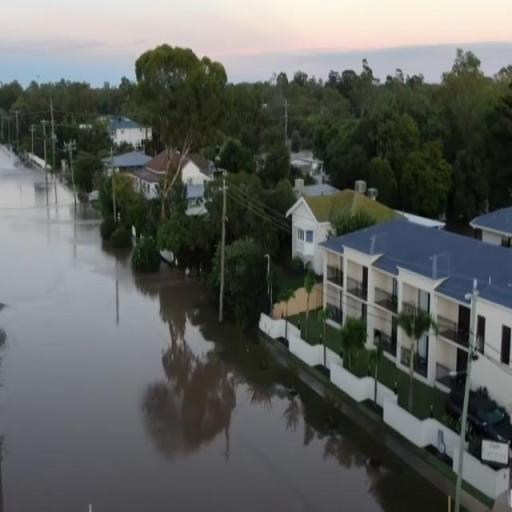flood: (0, 151, 449, 512)
house: (340, 209, 508, 401), (144, 147, 210, 208), (290, 189, 332, 267), (469, 202, 512, 258), (107, 116, 148, 150)
